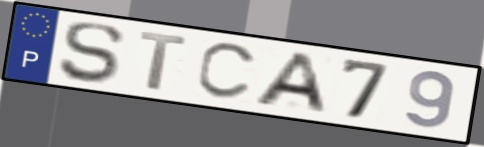7: (337, 56, 396, 123)
9: (402, 69, 458, 132)
A: (249, 51, 331, 116)
C: (193, 42, 262, 103)
S: (57, 21, 127, 85)
T: (137, 30, 190, 93)
